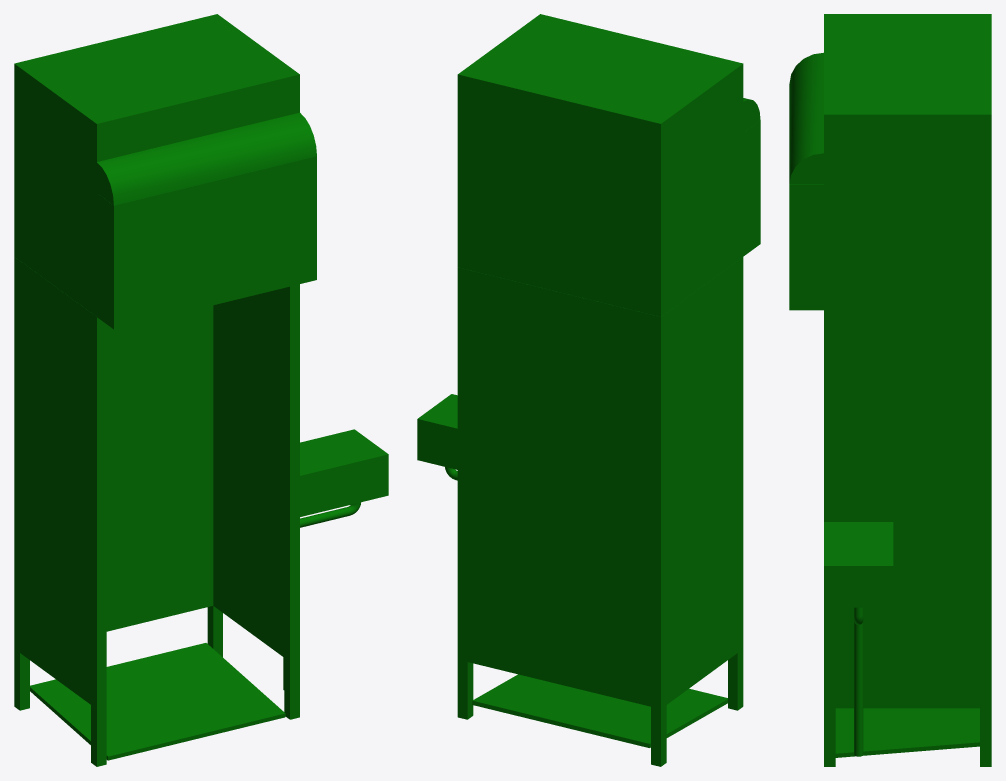
File: Image-1711348148504-2280979685536_76-SC51.fbx
3 views of the same model, side by side, from view 1: azimuth 30°, elevation 25°; view 2: azimuth 150°, elevation 25°; view 3: azimuth 270°, elevation 25° (orthographic).
Visible parts, largest first — view 1: BOX 1 of SUBEQUIPMENT /76-SC51-PRIM, BOX 3 of SUBEQUIPMENT /76-SC51-PRIM, BOX 5 of SUBEQUIPMENT /76-SC51-PRIM, BOX 4 of SUBEQUIPMENT /76-SC51-PRIM, BOX 2 of SUBEQUIPMENT /76-SC51-PRIM, BOX 10 of SUBEQUIPMENT /76-SC51-PRIM, RTORUS 1 of SUBEQUIPMENT /76-SC51-PRIM, BOX 11 of SUBEQUIPMENT /76-SC51-PRIM, BOX 9 of SUBEQUIPMENT /76-SC51-PRIM, BOX 8 of SUBEQUIPMENT /76-SC51-PRIM, BOX 6 of SUBEQUIPMENT /76-SC51-PRIM, BOX 7 of SUBEQUIPMENT /76-SC51-PRIM; view 2: BOX 5 of SUBEQUIPMENT /76-SC51-PRIM, BOX 1 of SUBEQUIPMENT /76-SC51-PRIM, BOX 3 of SUBEQUIPMENT /76-SC51-PRIM, BOX 10 of SUBEQUIPMENT /76-SC51-PRIM, BOX 4 of SUBEQUIPMENT /76-SC51-PRIM, BOX 11 of SUBEQUIPMENT /76-SC51-PRIM, BOX 2 of SUBEQUIPMENT /76-SC51-PRIM, BOX 7 of SUBEQUIPMENT /76-SC51-PRIM, BOX 6 of SUBEQUIPMENT /76-SC51-PRIM, BOX 9 of SUBEQUIPMENT /76-SC51-PRIM; view 3: BOX 4 of SUBEQUIPMENT /76-SC51-PRIM, BOX 1 of SUBEQUIPMENT /76-SC51-PRIM, BOX 10 of SUBEQUIPMENT /76-SC51-PRIM, BOX 11 of SUBEQUIPMENT /76-SC51-PRIM, BOX 2 of SUBEQUIPMENT /76-SC51-PRIM, RTORUS 1 of SUBEQUIPMENT /76-SC51-PRIM, CYLINDER 3 of SUBEQUIPMENT /76-SC51-PRIM, BOX 7 of SUBEQUIPMENT /76-SC51-PRIM, BOX 8 of SUBEQUIPMENT /76-SC51-PRIM.
Boxes of the visible parts, x1,y1,x2,y2 form: BOX 1 of SUBEQUIPMENT /76-SC51-PRIM: (14, 14, 299, 316); BOX 3 of SUBEQUIPMENT /76-SC51-PRIM: (14, 257, 106, 708); BOX 5 of SUBEQUIPMENT /76-SC51-PRIM: (106, 305, 213, 631); BOX 4 of SUBEQUIPMENT /76-SC51-PRIM: (213, 284, 299, 661); BOX 2 of SUBEQUIPMENT /76-SC51-PRIM: (97, 156, 316, 329); BOX 10 of SUBEQUIPMENT /76-SC51-PRIM: (30, 643, 285, 760); RTORUS 1 of SUBEQUIPMENT /76-SC51-PRIM: (97, 112, 316, 205); BOX 11 of SUBEQUIPMENT /76-SC51-PRIM: (300, 429, 388, 516); BOX 9 of SUBEQUIPMENT /76-SC51-PRIM: (91, 705, 106, 766); BOX 8 of SUBEQUIPMENT /76-SC51-PRIM: (284, 658, 299, 719); BOX 6 of SUBEQUIPMENT /76-SC51-PRIM: (14, 649, 29, 710); BOX 7 of SUBEQUIPMENT /76-SC51-PRIM: (207, 606, 222, 656); BOX 5 of SUBEQUIPMENT /76-SC51-PRIM: (467, 270, 650, 706); BOX 1 of SUBEQUIPMENT /76-SC51-PRIM: (457, 14, 743, 316); BOX 3 of SUBEQUIPMENT /76-SC51-PRIM: (651, 257, 743, 708); BOX 10 of SUBEQUIPMENT /76-SC51-PRIM: (472, 674, 727, 747); BOX 4 of SUBEQUIPMENT /76-SC51-PRIM: (457, 267, 467, 661); BOX 11 of SUBEQUIPMENT /76-SC51-PRIM: (417, 394, 457, 469); BOX 2 of SUBEQUIPMENT /76-SC51-PRIM: (743, 120, 760, 256); BOX 7 of SUBEQUIPMENT /76-SC51-PRIM: (457, 659, 473, 719); BOX 6 of SUBEQUIPMENT /76-SC51-PRIM: (651, 705, 666, 766); BOX 9 of SUBEQUIPMENT /76-SC51-PRIM: (728, 649, 743, 710); BOX 4 of SUBEQUIPMENT /76-SC51-PRIM: (824, 310, 991, 708); BOX 1 of SUBEQUIPMENT /76-SC51-PRIM: (824, 14, 991, 310); BOX 10 of SUBEQUIPMENT /76-SC51-PRIM: (835, 708, 979, 757); BOX 11 of SUBEQUIPMENT /76-SC51-PRIM: (824, 522, 893, 607); BOX 2 of SUBEQUIPMENT /76-SC51-PRIM: (789, 184, 823, 310); RTORUS 1 of SUBEQUIPMENT /76-SC51-PRIM: (789, 52, 823, 184); CYLINDER 3 of SUBEQUIPMENT /76-SC51-PRIM: (854, 621, 863, 756); BOX 7 of SUBEQUIPMENT /76-SC51-PRIM: (980, 708, 991, 766); BOX 8 of SUBEQUIPMENT /76-SC51-PRIM: (824, 708, 835, 766).
Size of the model in its own units: 1.48 by 0.875 by 3.12.
